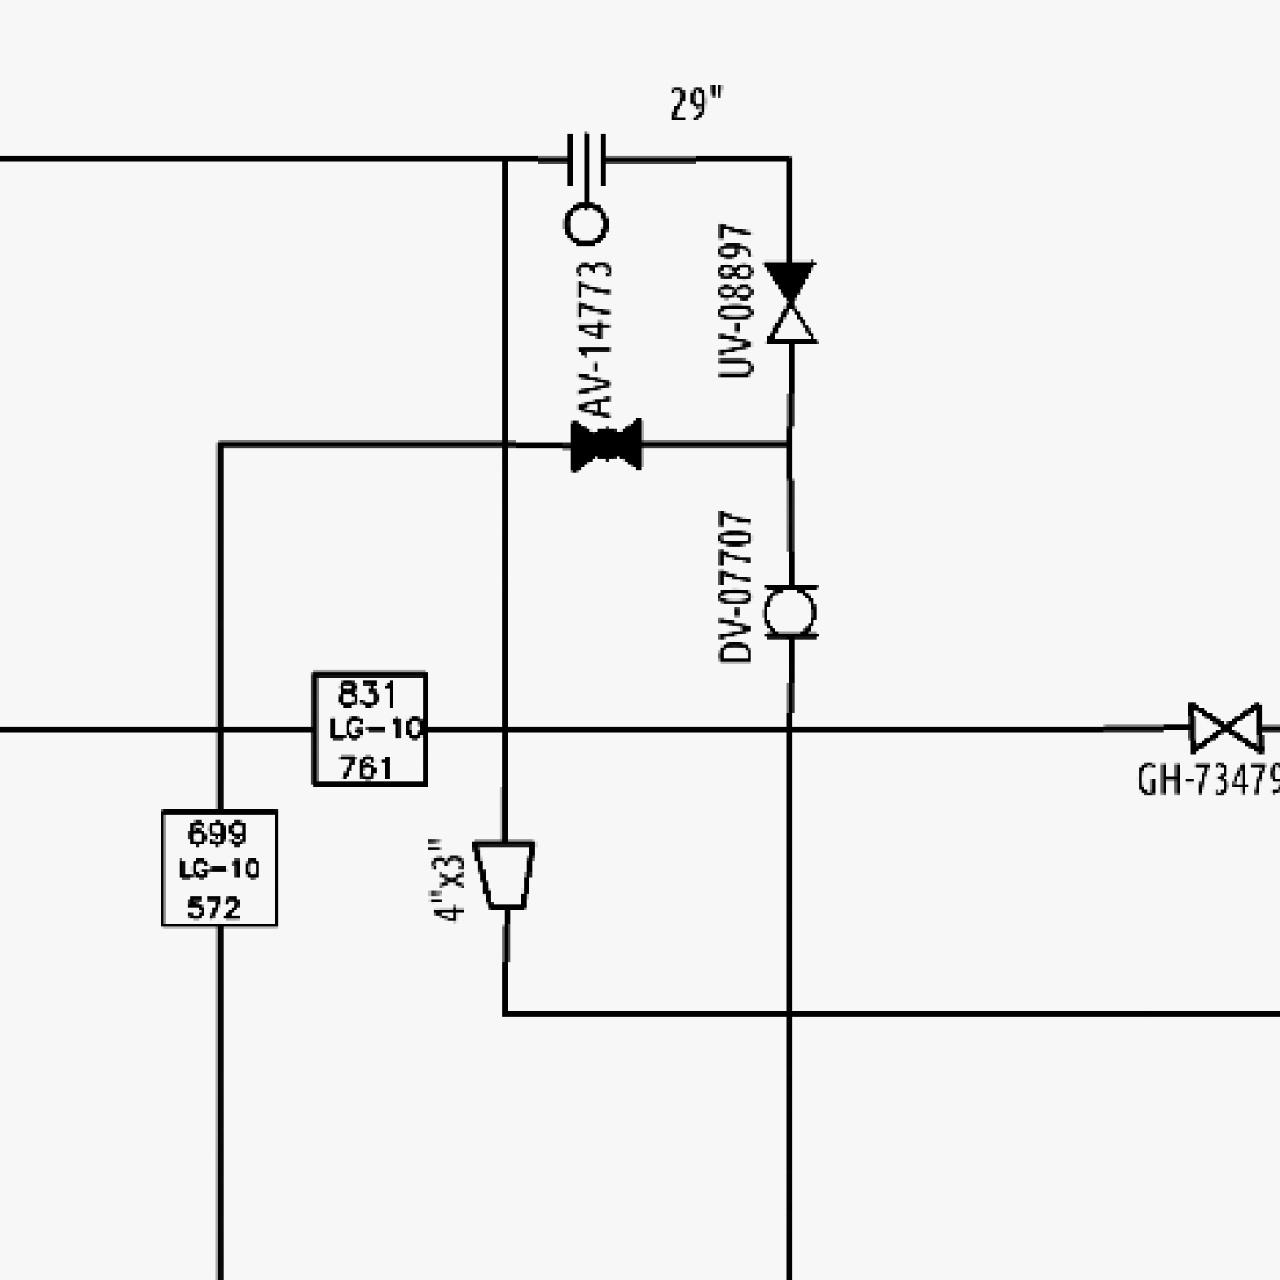Half closed valve: (757, 256, 821, 348)
